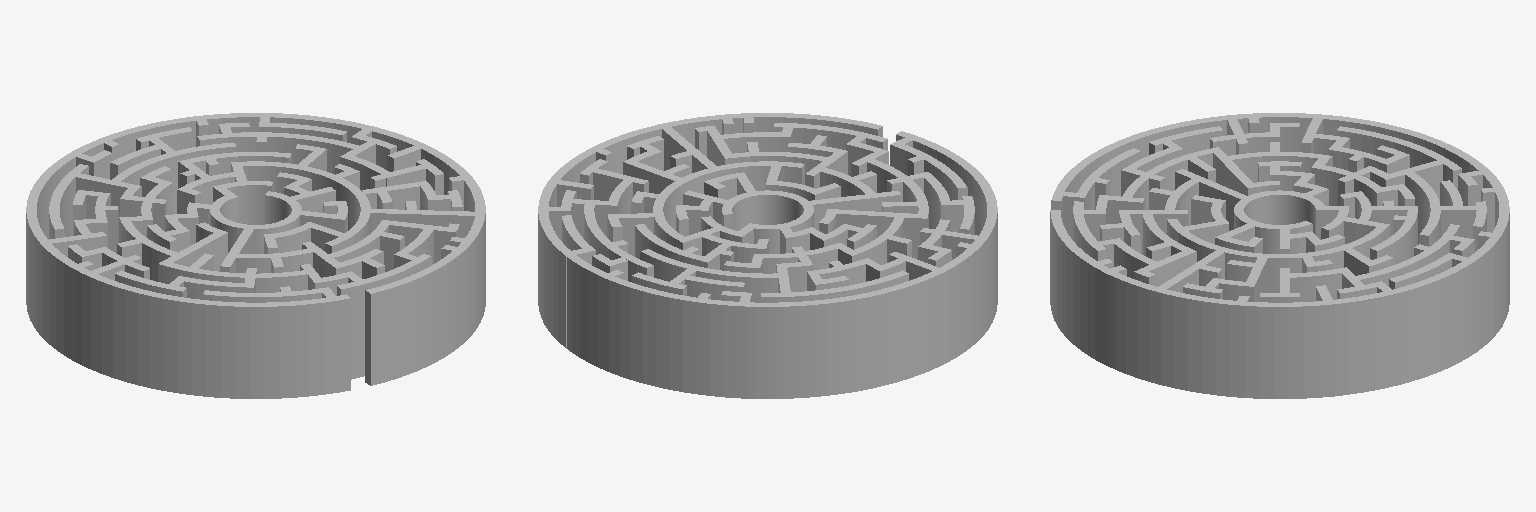
The model's file is SueloCircular20x20.obj.
3 renders of one model, left to right at view 1: azimuth 30°, elevation 25°; view 2: azimuth 150°, elevation 25°; view 3: azimuth 270°, elevation 25°, orthographic.
Parts seen in each view (by area): view 1: Curve.059_Curve.249; view 2: Curve.059_Curve.249; view 3: Curve.059_Curve.249.
Boxes of the visible parts, x1,y1,x2,y2 form: Curve.059_Curve.249: [26, 113, 485, 398]; Curve.059_Curve.249: [538, 113, 997, 398]; Curve.059_Curve.249: [1050, 113, 1509, 398].
Size of the model in its own units: 57.67 by 12.77 by 57.66.